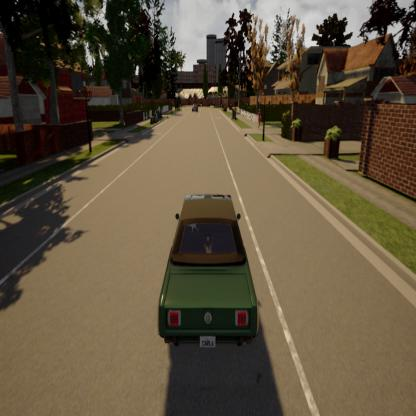Cars: (154, 172, 270, 361), (188, 101, 200, 116)
Pedestrian: (254, 107, 262, 132)
